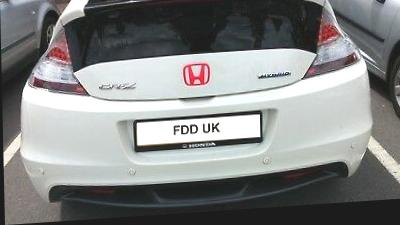License_Plate: (131, 107, 266, 155)
